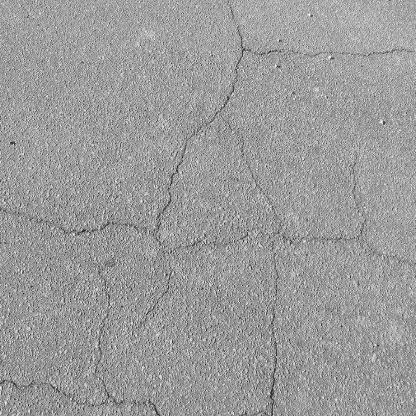Cracks: (153, 0, 250, 231), (0, 189, 170, 252), (0, 377, 271, 416), (272, 218, 416, 269), (87, 248, 123, 407), (257, 240, 283, 416), (236, 37, 416, 59)
